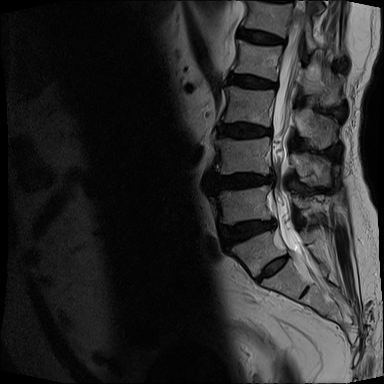Lumbar Disc Bulge (LDB): (213, 210, 284, 256), (210, 163, 278, 198), (224, 69, 284, 95), (215, 119, 276, 142)
Normal IVD: (250, 249, 295, 286)
Spinal Stenosis (SS): (266, 73, 285, 97), (263, 167, 279, 192), (278, 33, 294, 52), (267, 215, 281, 233)
Thoracic Disc Bulge (TDB): (229, 24, 292, 51)
